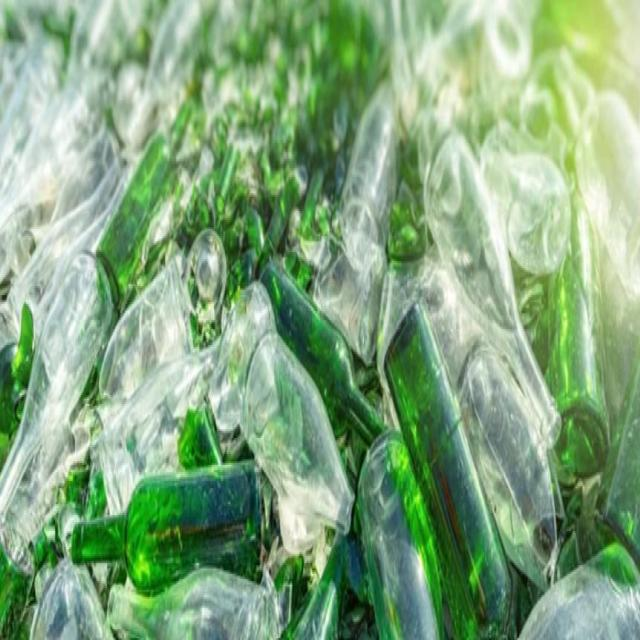electronic: (384, 301, 517, 640), (71, 468, 262, 589), (356, 427, 446, 640)
